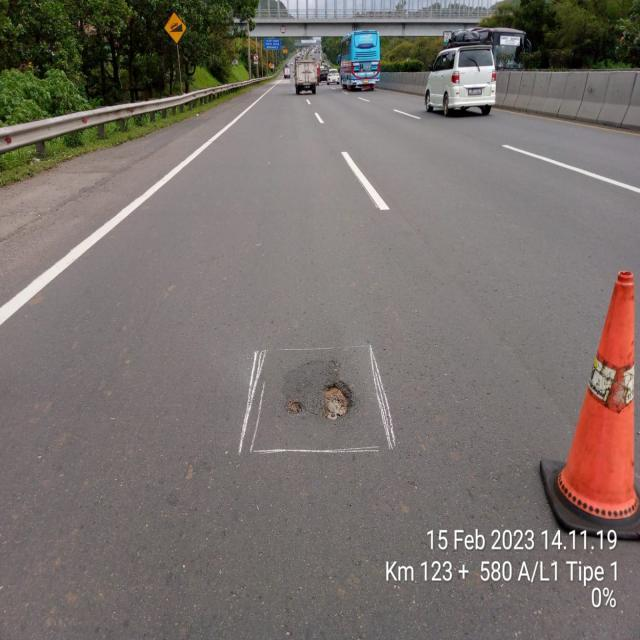Buraco: (317, 378, 358, 423), (282, 396, 309, 418)
